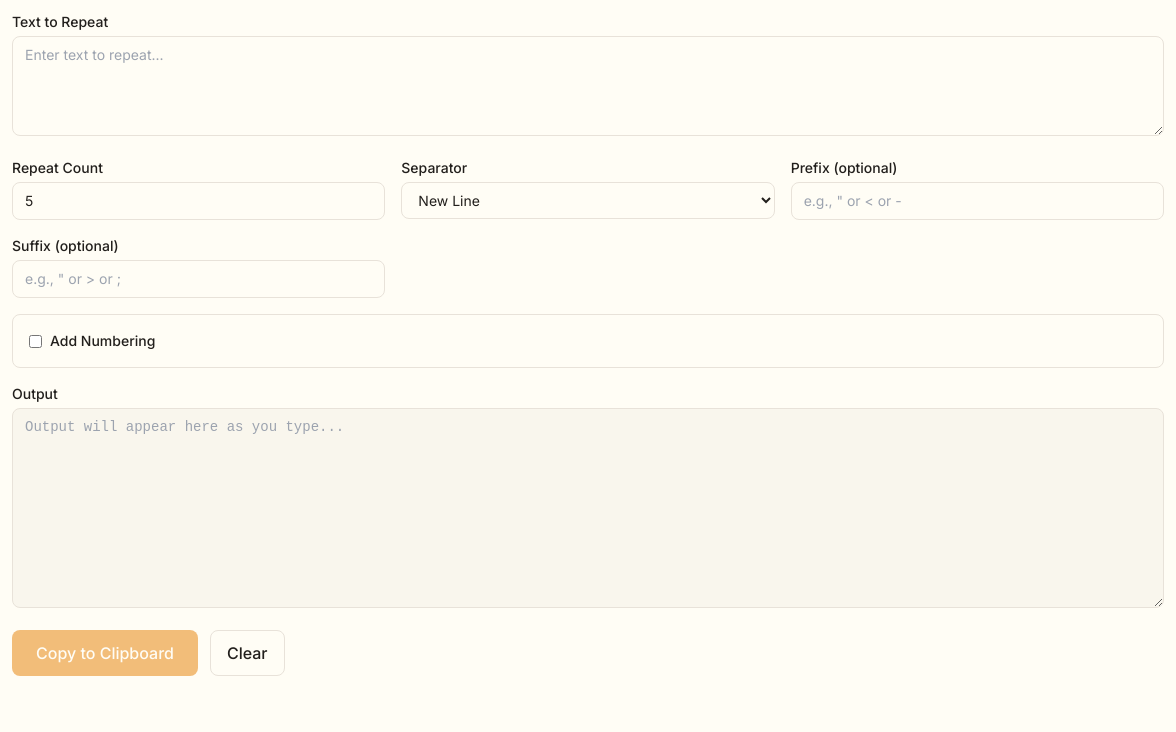
Test: TextRepeater › uses space separator
Type "x" into the text box labelled "text to repeat".
click(588, 86); type("x")  # box [12,36,1164,136]
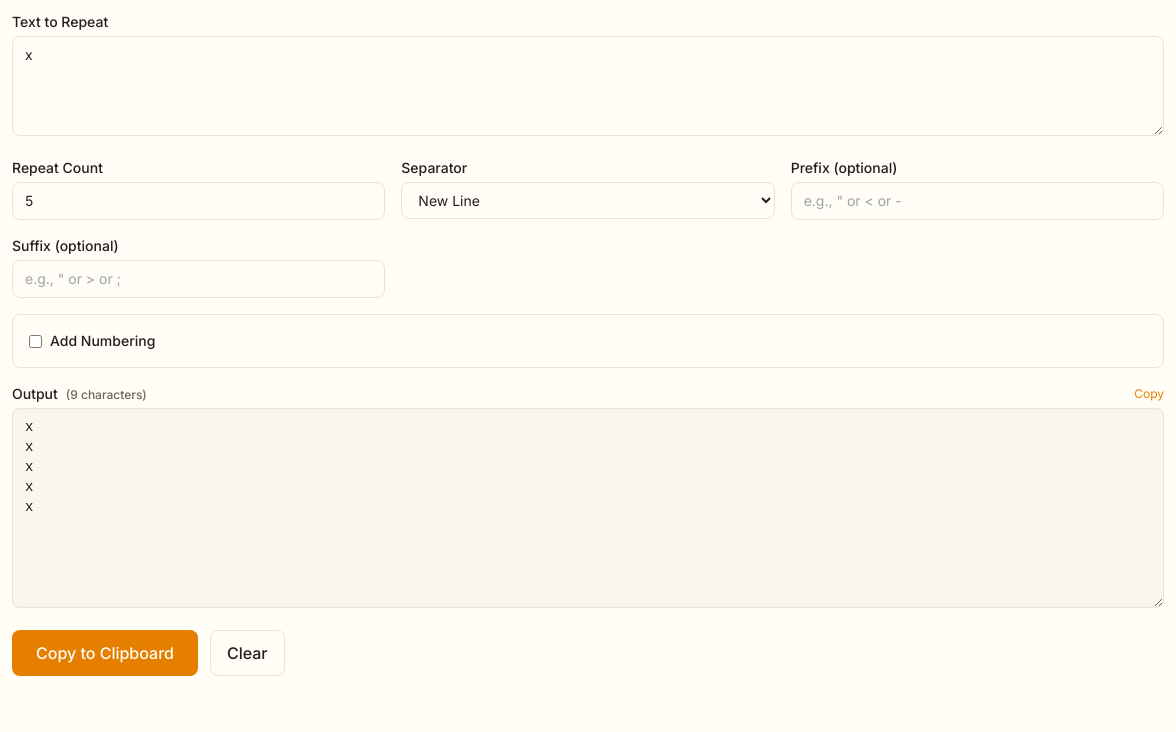
Replace the text in the number field named "Repeat count" with "3" at x=199, y=201, box [12,182,385,220]
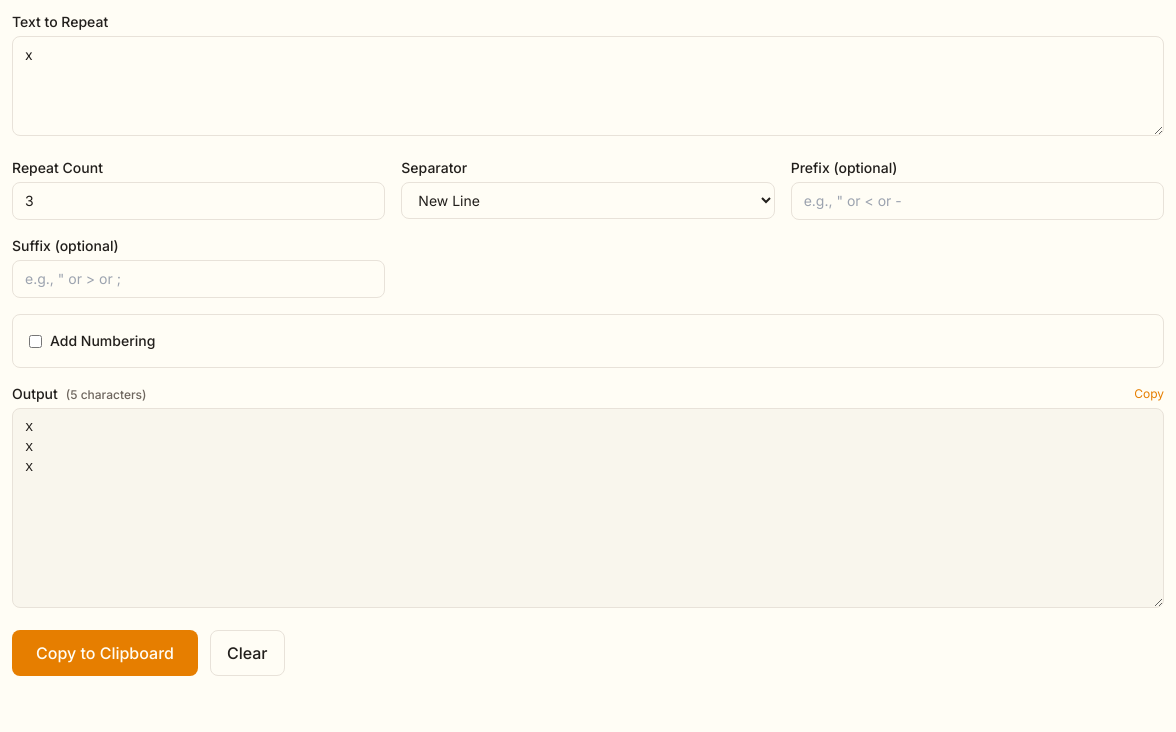
Select "Space" in the dropdown named "Separator type" at x=588, y=200, box [401,182,775,219]
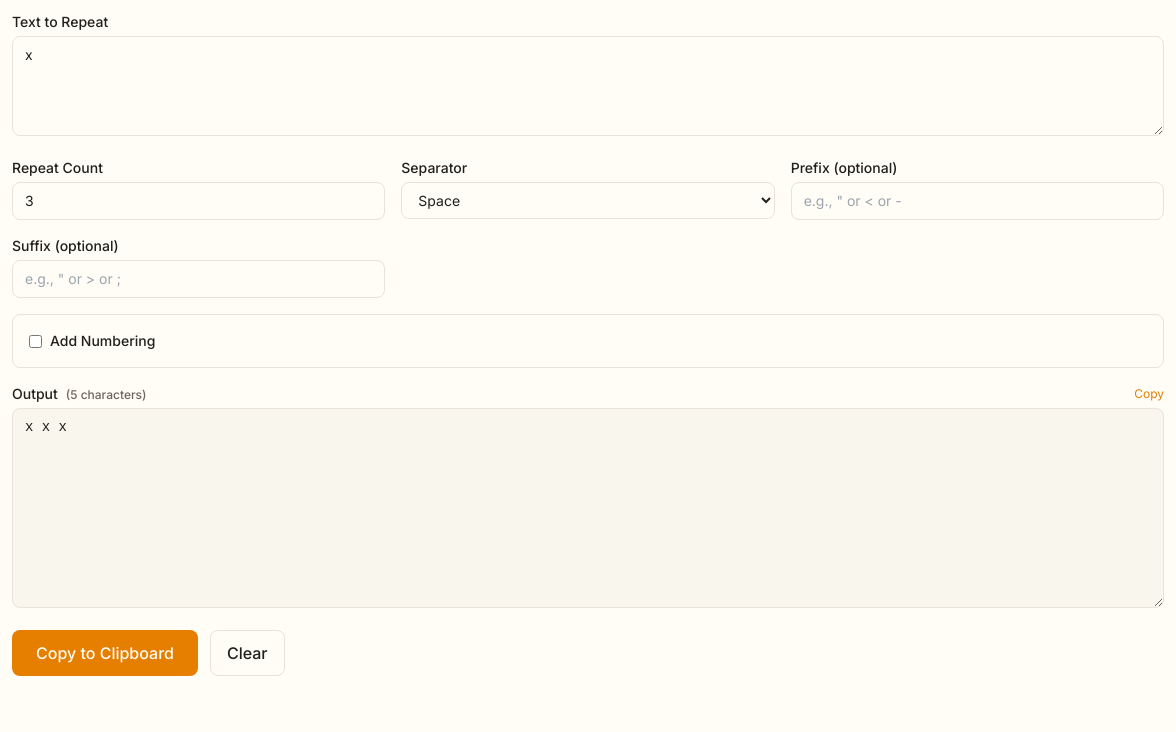
Expected: the text box named "Repeated text output" holds "x x x", [12,408,1164,608]
